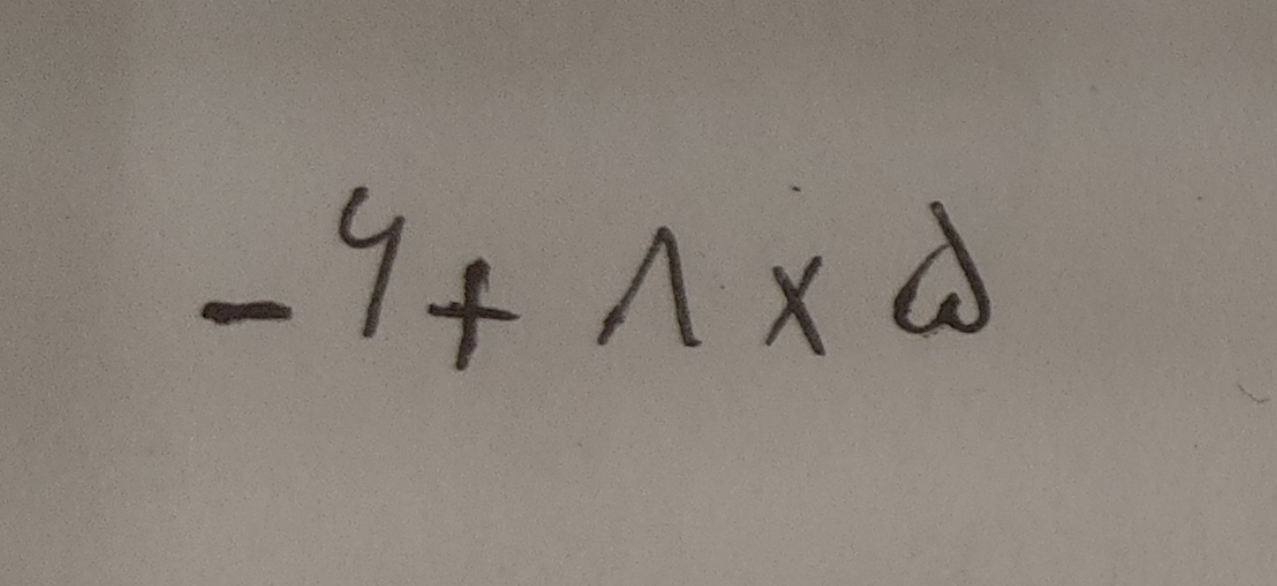character: (891, 198, 1007, 351), (596, 222, 720, 360), (424, 258, 531, 385), (336, 183, 411, 348), (764, 257, 838, 364), (196, 299, 306, 355)
